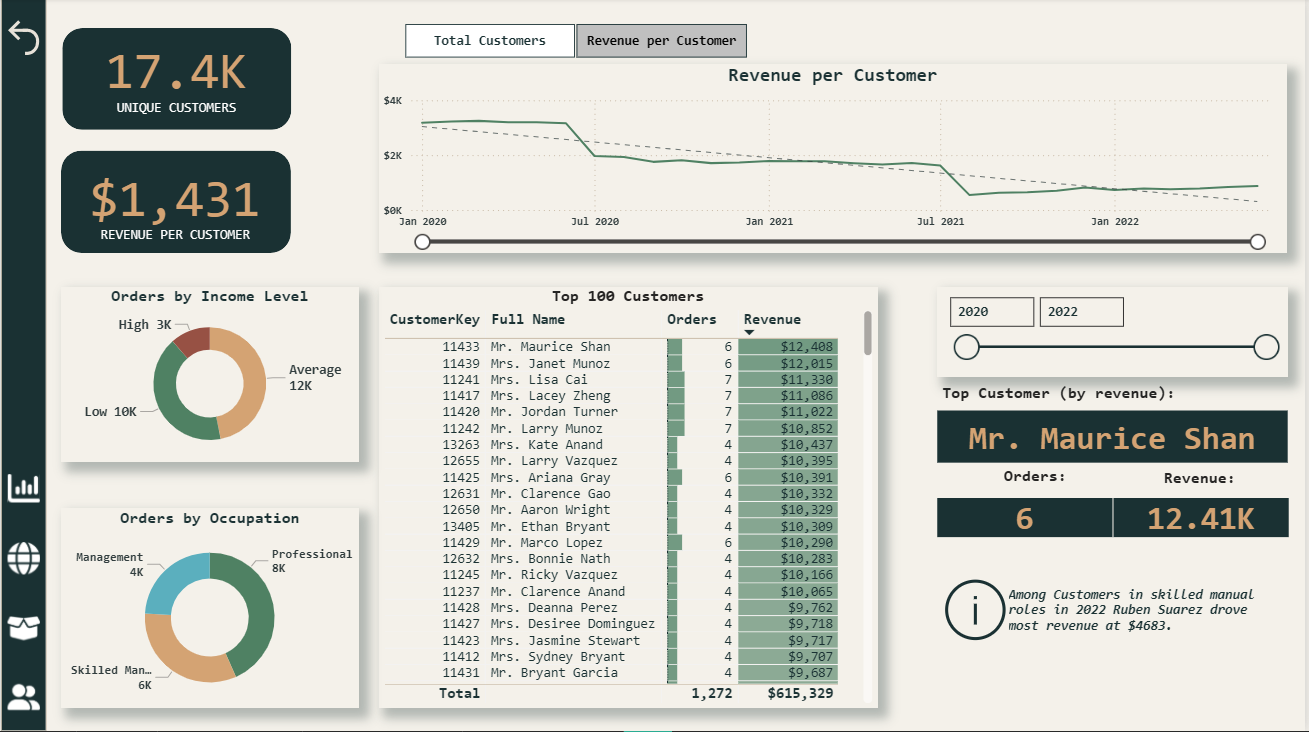

Layout of this report page (visuals, bound fields, positions):
{"tool":"powerbi","page":{"name":"Customer Detail","canvas":[1280,720],"ordinal":3},"visuals":[{"type":"shape","box":[0,0,45,720],"z":0},{"type":"shape","title":"Shape","box":[60.1,30,225,100],"z":0,"group":"g2"},{"type":"shape","title":"Shape","box":[58.9,149.7,225.8,100.6],"z":0,"group":"g1"},{"type":"actionButton","box":[0,529.9,44.8,39.8],"z":0,"group":"g3"},{"type":"card","fields":{"Values":["Measure Table.Total Customers"]},"box":[66.2,0,212.3,149.7],"z":1000,"group":"g2"},{"type":"group","id":"g1","title":"Card 1","box":[58.9,125.2,225.8,149.7],"z":1000},{"type":"card","fields":{"Values":["Measure Table.Average Revenue per Customer"]},"box":[65,125.2,212.3,149.7],"z":1000,"group":"g1"},{"type":"actionButton","box":[0,461.5,44.8,39.8],"z":1000,"group":"g3"},{"type":"group","id":"g2","title":"Card 2","box":[60.1,0,224.5,149.7],"z":2000},{"type":"actionButton","box":[0,598.3,44.8,39.8],"z":2000,"group":"g3"},{"type":"lineChart","fields":{"Category":["dim Calendar.Date Hierarchy.Start of Year","dim Calendar.Date Hierarchy.Start of Month","dim Calendar.Date Hierarchy.Start of Week","dim Calendar.Date Hierarchy.Date"],"Y":["Measure Table.Average Revenue per Customer"]},"box":[370.6,65,892,185.3],"z":3000},{"type":"actionButton","box":[0,666.8,44.8,39.8],"z":3000,"group":"g3"},{"type":"donutChart","title":"Orders by Income Level","fields":{"Category":["dim Customer.Income Level"],"Y":["Measure Table.Total Orders"]},"box":[59.5,283.8,292.4,172.2],"z":4000},{"type":"donutChart","title":"Orders by Occupation","fields":{"Category":["dim Customer.Occupation"],"Y":["Measure Table.Total Orders"]},"box":[59.5,500.6,292.4,197],"z":5000},{"type":"tableEx","title":"Top 100 Customers","fields":{"Values":["dim Customer.CustomerKey","dim Customer.Full Name","Measure Table.Total Orders","Measure Table.Total Revenue"]},"box":[370,283.8,490,413.8],"z":6000},{"type":"card","fields":{"Values":["Measure Table.Full Name (Customer Detail)"]},"box":[918.8,405,343.8,51.2],"z":7000},{"type":"card","fields":{"Values":["Measure Table.Total Orders (Customer Detail)"]},"box":[919,490.8,171.8,38],"z":8000},{"type":"card","fields":{"Values":["Measure Table.Total Revenue (Customer Detail)"]},"box":[1092,490.8,171.8,38],"z":9000},{"type":"textbox","box":[918.8,372.5,328.8,35],"z":10000},{"type":"textbox","box":[919,455.2,192.6,33.1],"z":11000},{"type":"textbox","box":[1090.8,456.4,171.8,34.4],"z":12000},{"type":"slicer","fields":{"Values":["dim Calendar.Year"]},"box":[918.8,283.8,343.8,88.8],"z":13000},{"type":"actionButton","box":[919,563.2,344.8,74.8],"z":14000},{"type":"actionButton","box":[0,12.5,45,52.5],"z":15000},{"type":"group","id":"g3","title":"Navigation Buttons","box":[0,461.5,44.8,245.1],"z":16000},{"type":"slicer","fields":{"Values":["Customer Metric Selection.Customer Metric Selection"]},"box":[370.6,18.4,385.3,46.6],"z":16001}]}

Visuals, with their boxes in screenshot pixels (x1, y1, x2, y2), scaled from the page's 1280x720 canvas onto the 1309x732 screenshot:
shape: locate(0, 0, 46, 731)
"Shape" shape: locate(61, 30, 292, 132)
"Shape" shape: locate(60, 152, 291, 254)
actionButton: locate(0, 539, 46, 579)
card - Measure Table.Total Customers: locate(68, 0, 285, 152)
"Card 1" group: locate(60, 127, 291, 279)
card - Measure Table.Average Revenue per Customer: locate(66, 127, 284, 279)
actionButton: locate(0, 469, 46, 510)
"Card 2" group: locate(61, 0, 291, 152)
actionButton: locate(0, 608, 46, 649)
lineChart - dim Calendar.Date Hierarchy.Start of Year x dim Calendar.Date Hierarchy.Start of Month: locate(379, 66, 1291, 254)
actionButton: locate(0, 678, 46, 718)
"Orders by Income Level" donutChart: locate(61, 289, 360, 464)
"Orders by Occupation" donutChart: locate(61, 509, 360, 709)
"Top 100 Customers" tableEx: locate(378, 289, 879, 709)
card - Measure Table.Full Name (Customer Detail): locate(940, 412, 1291, 464)
card - Measure Table.Total Orders (Customer Detail): locate(940, 499, 1116, 538)
card - Measure Table.Total Revenue (Customer Detail): locate(1117, 499, 1292, 538)
textbox: locate(940, 379, 1276, 414)
textbox: locate(940, 463, 1137, 496)
textbox: locate(1116, 464, 1291, 499)
slicer - dim Calendar.Year: locate(940, 289, 1291, 379)
actionButton: locate(940, 573, 1292, 649)
actionButton: locate(0, 13, 46, 66)
"Navigation Buttons" group: locate(0, 469, 46, 718)
slicer - Customer Metric Selection.Customer Metric Selection: locate(379, 19, 773, 66)
